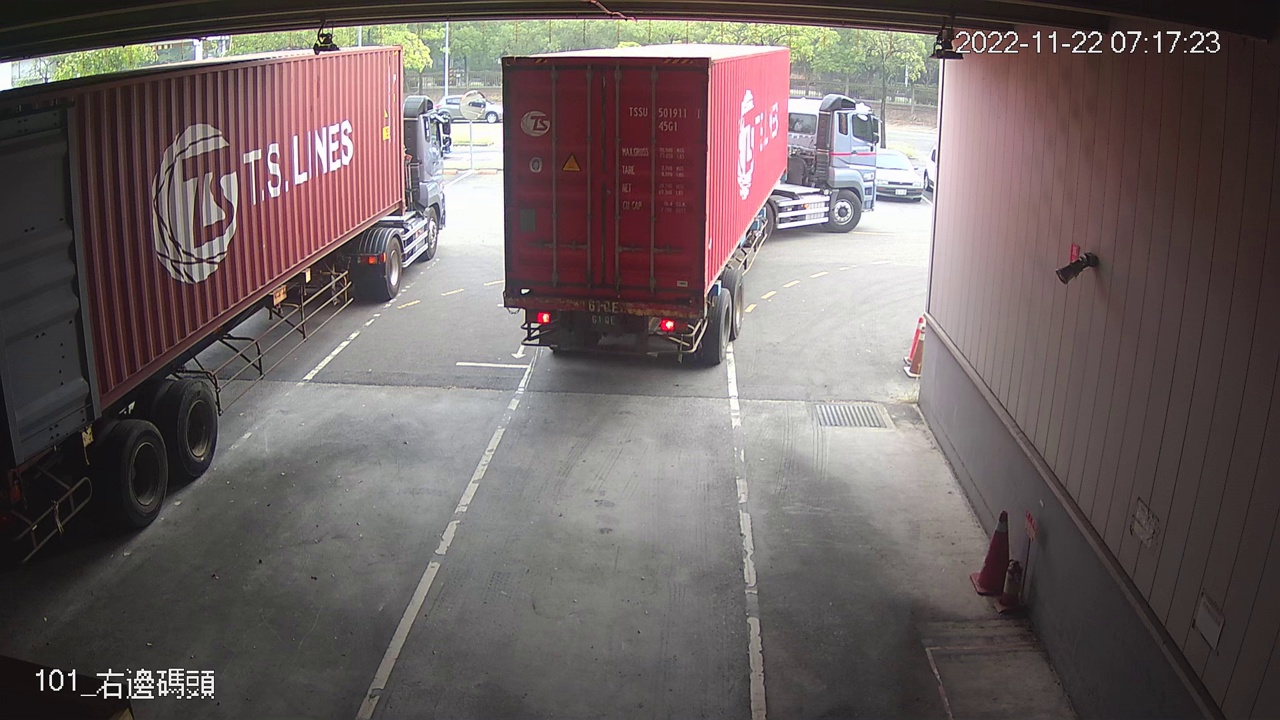container: (623, 102, 703, 134)
